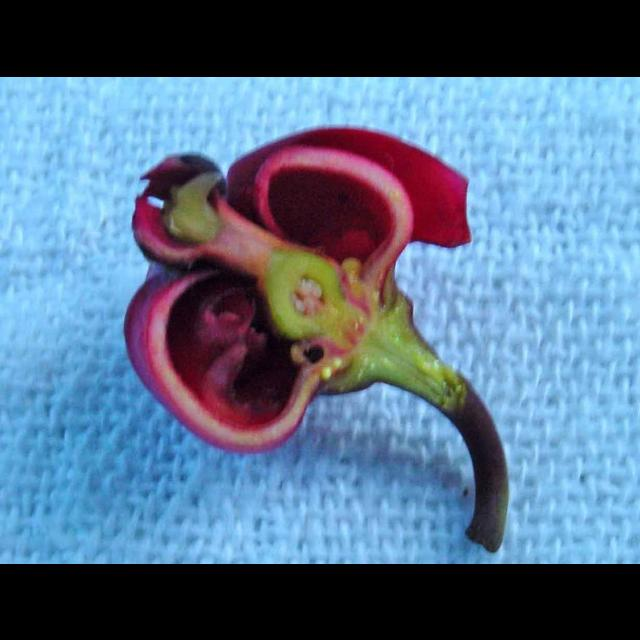Flower: (128, 134, 508, 550)
